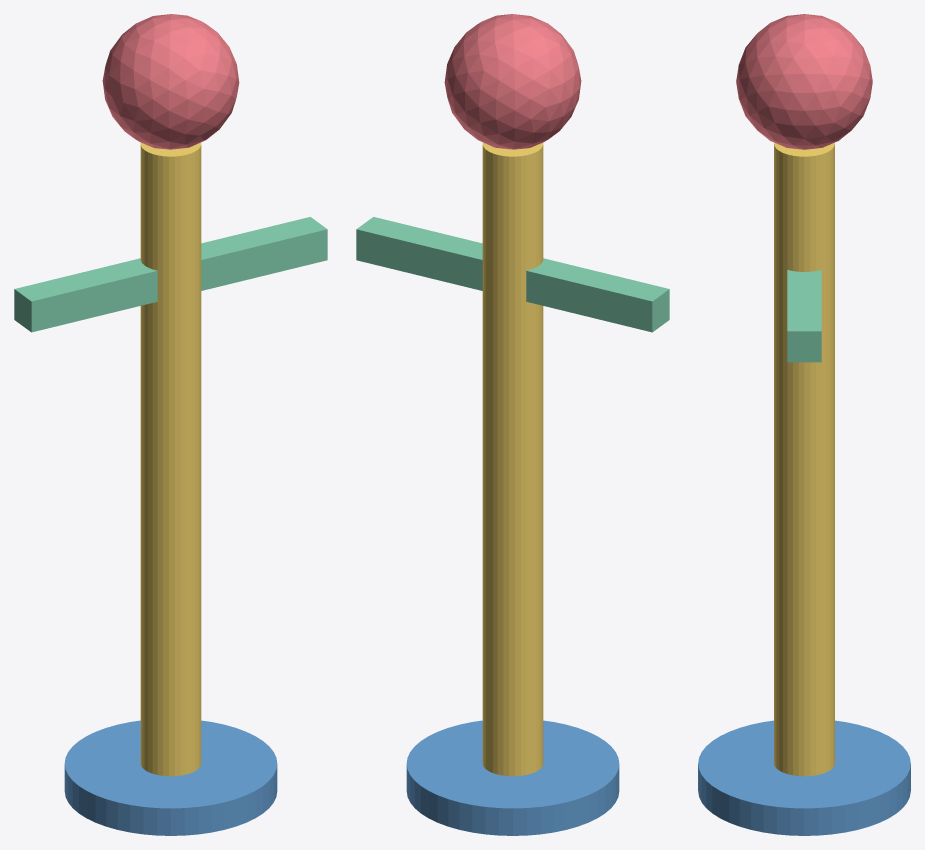
3 views of the same model, side by side, from view 1: azimuth 30°, elevation 25°; view 2: azimuth 150°, elevation 25°; view 3: azimuth 270°, elevation 25° (orthographic).
Visible parts, largest first — view 1: Post, Base, Top marker, Crossbar; view 2: Post, Base, Top marker, Crossbar; view 3: Post, Base, Top marker, Crossbar.
Part boxes in pixels (x1,y1,x2,y2): Post: (140, 142, 201, 776); Base: (64, 720, 277, 835); Top marker: (102, 14, 239, 149); Crossbar: (14, 217, 327, 332); Post: (482, 142, 543, 776); Base: (406, 720, 619, 835); Top marker: (444, 14, 581, 149); Crossbar: (356, 217, 669, 332); Post: (774, 143, 834, 776); Base: (698, 720, 910, 835); Top marker: (736, 14, 872, 149); Crossbar: (787, 270, 821, 362).
Size of the model in its own units: 0.45 by 1.12 by 0.28.
